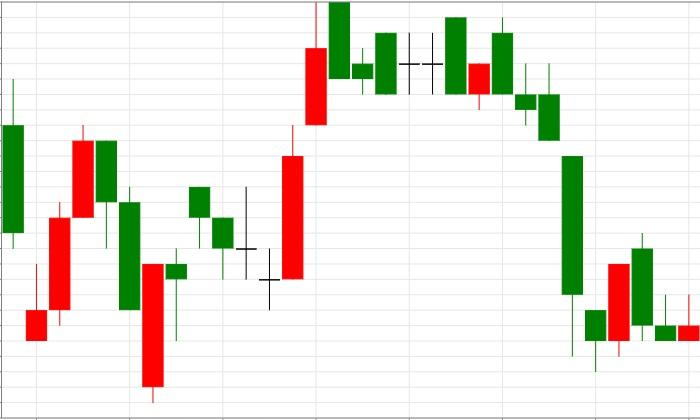inverse_hammer_rise: (491, 17, 700, 372)
